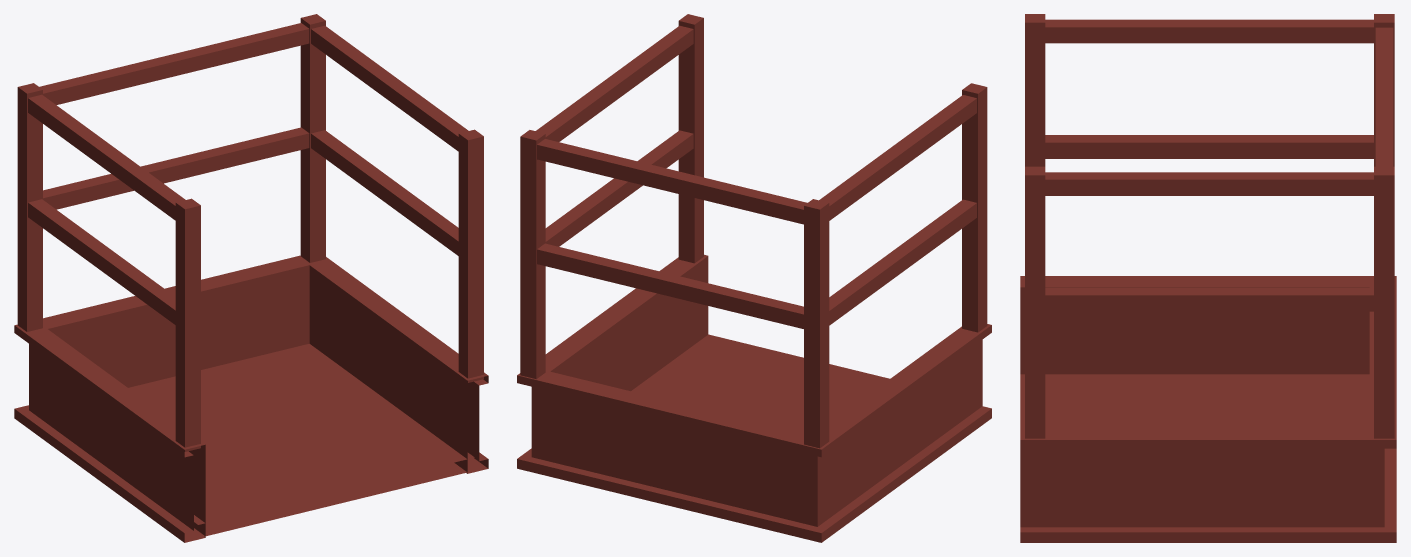
Rendered from Walkway New 1.fbx.
3 renders of one model, left to right at view 1: azimuth 30°, elevation 25°; view 2: azimuth 150°, elevation 25°; view 3: azimuth 270°, elevation 25°, orthographic. The views are drawn at different scales.
Visible parts, largest first — view 1: polySurface183; view 2: polySurface183; view 3: polySurface183.
Boxes of the visible parts, x1,y1,x2,y2 form: polySurface183: (14,14,488,542); polySurface183: (517,14,991,542); polySurface183: (1020,14,1396,542).
Bounding box in the file's own units: 129 × 134 × 125.
